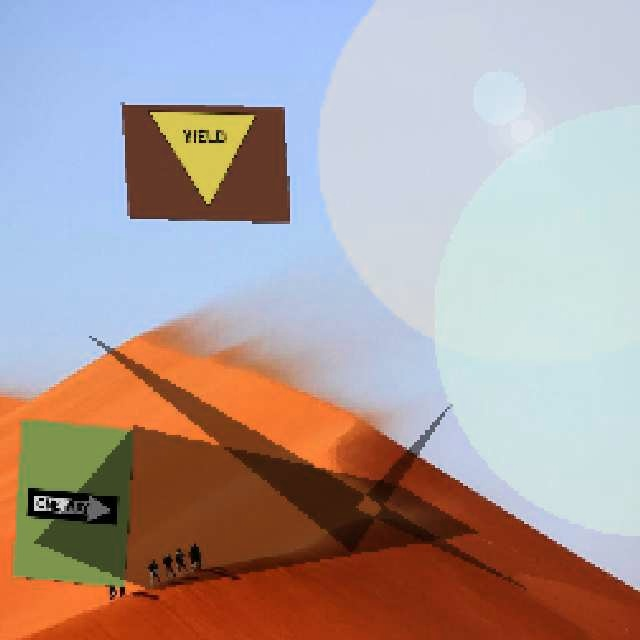ONE_WAY_ right: (25, 486, 116, 524)
YIELD: (146, 109, 262, 207)
